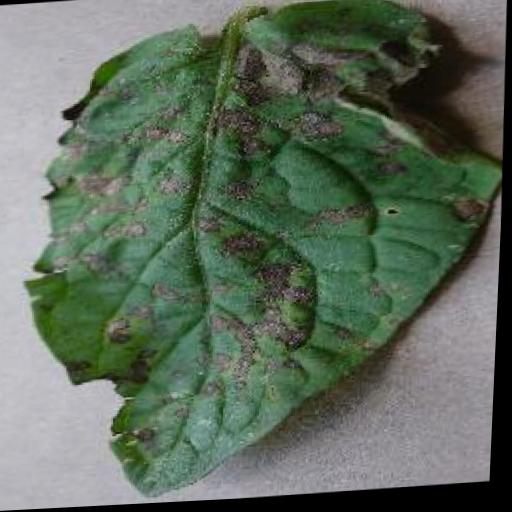Early Blight: (11, 0, 512, 506)
